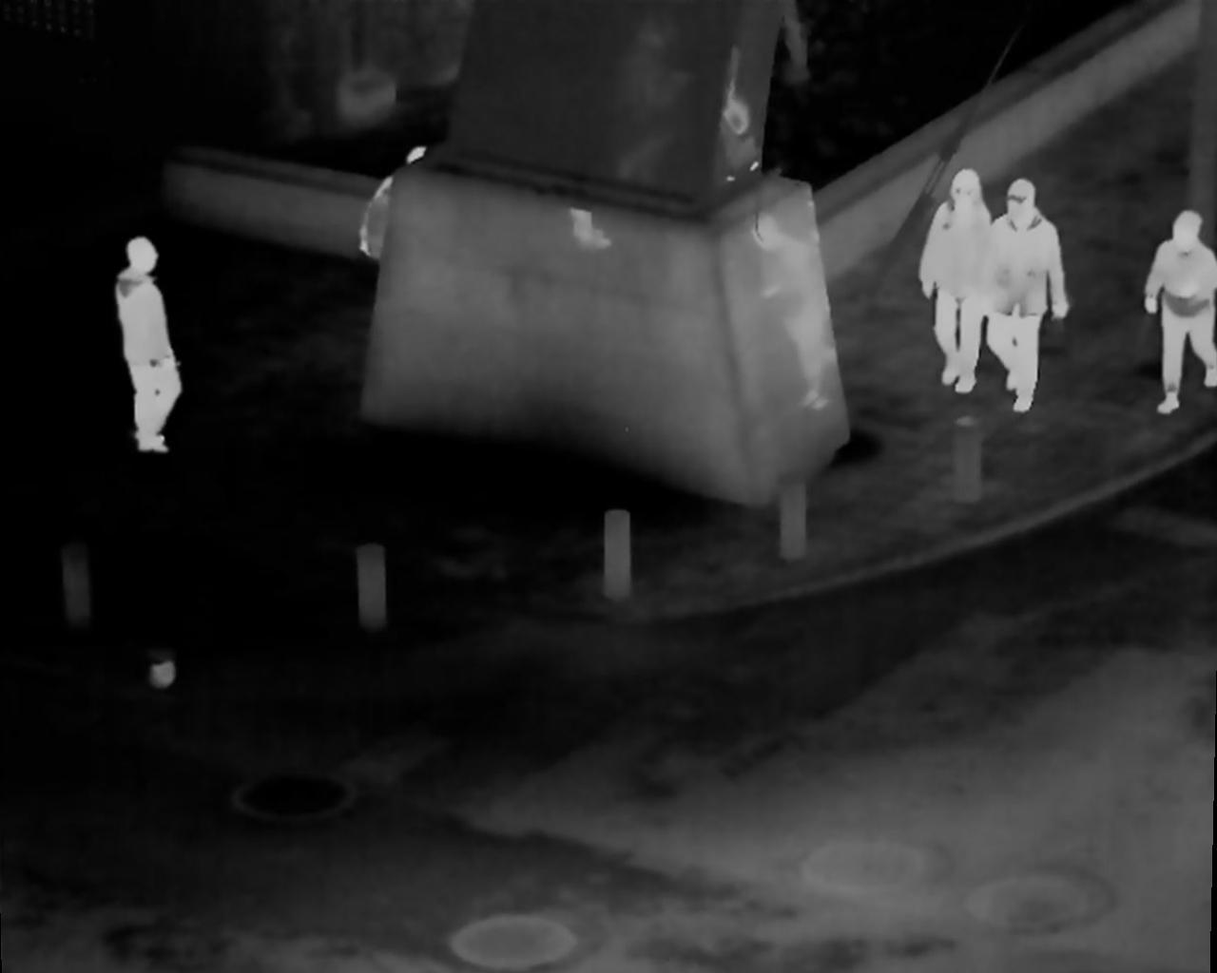person: (985, 174, 1068, 420), (106, 236, 194, 447), (921, 170, 997, 399), (1140, 208, 1211, 419)
